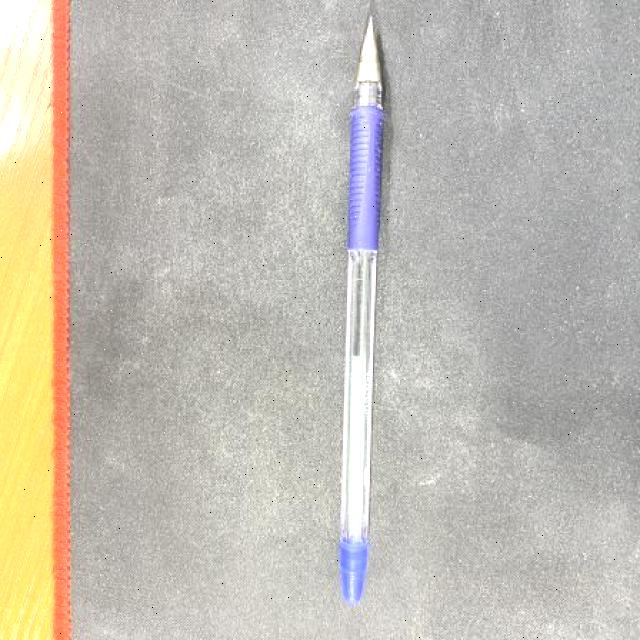pen: (333, 14, 388, 609)
